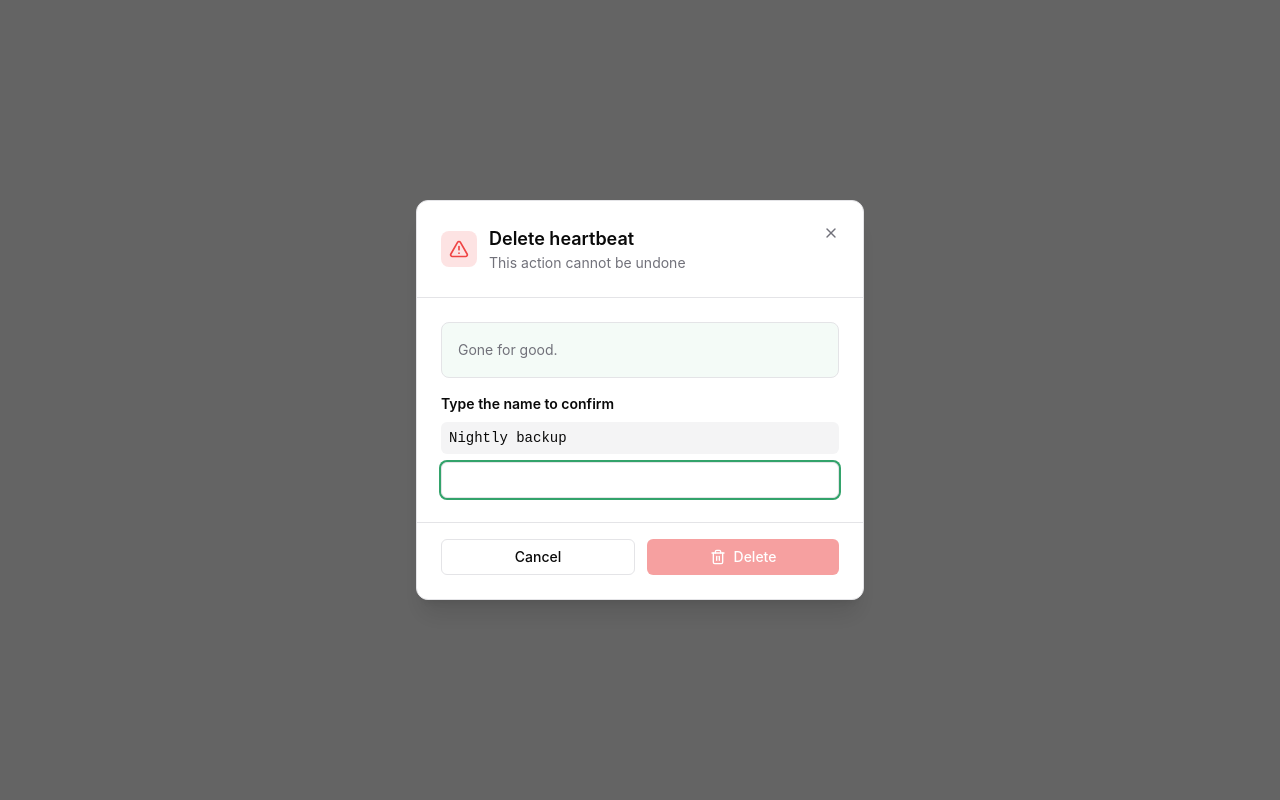
Test: confirm dialog › needs the name typed before deleting
Expected: the button "Delete" is disabled, [647,539,839,575]
Type "Nightly backup" into the field named "Type Nightly backup to confirm" at x=640, y=480, box [441,462,839,498]
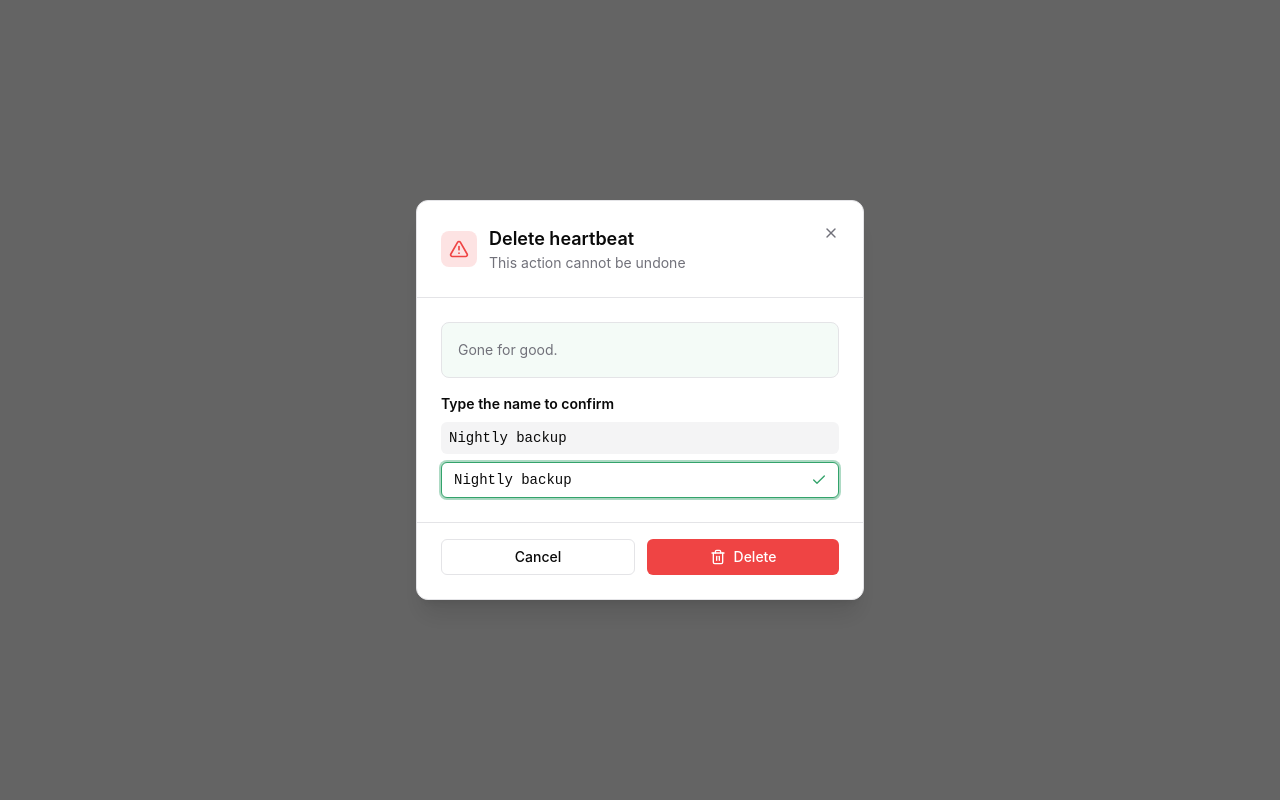
Expected: the button "Delete" is enabled, [647,539,839,575]
